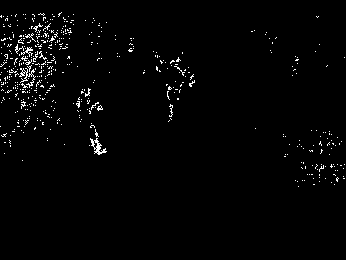person: (76, 88, 107, 159)
